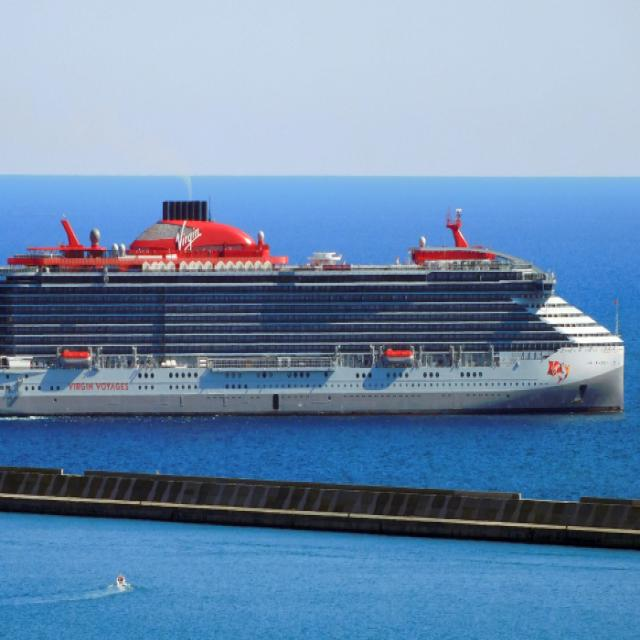cruises: (1, 182, 636, 427)
